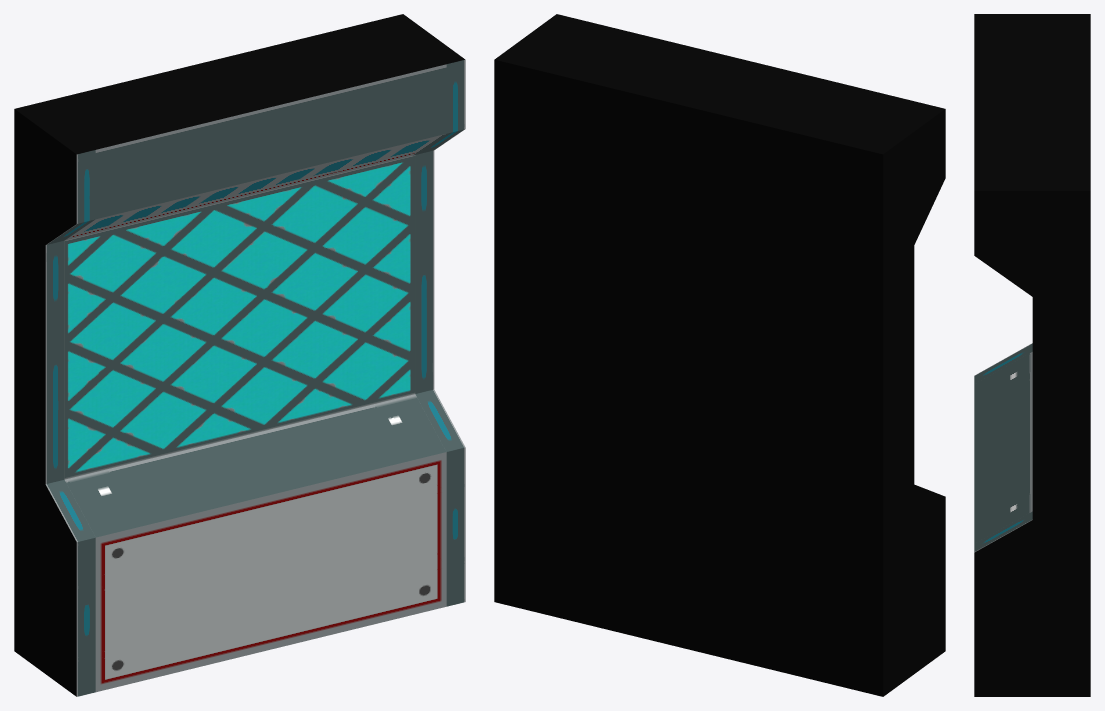
Rendered from P2_Simple1.fbx.
3 views of the same model, side by side, from view 1: azimuth 30°, elevation 25°; view 2: azimuth 150°, elevation 25°; view 3: azimuth 270°, elevation 25° (orthographic). The views are drawn at different scales.
Parts seen in each view (by area): view 1: Cube.017; view 2: Cube.017; view 3: Cube.017.
Boxes of the visible parts, x1,y1,x2,y2 form: Cube.017: [14, 14, 465, 696]; Cube.017: [494, 14, 945, 696]; Cube.017: [974, 14, 1090, 696].
Size of the model in its own units: 300 by 83.32 by 400.
